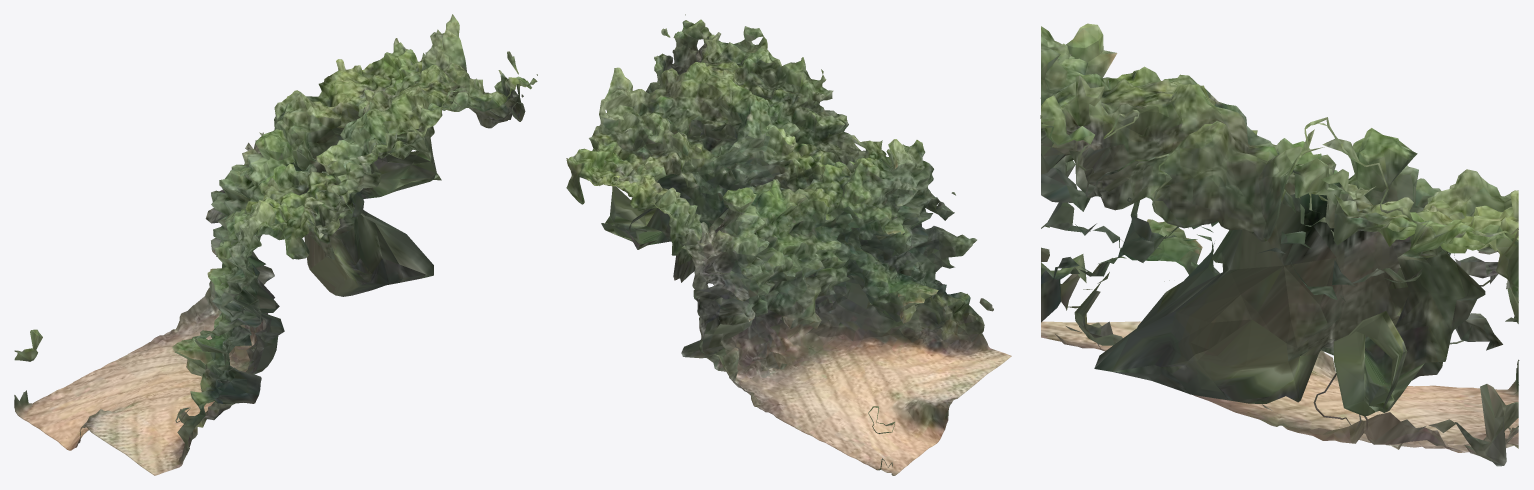
File: BlockBBYA_L19_10.glb
3 renders of one model, left to right at view 1: azimuth 30°, elevation 25°; view 2: azimuth 150°, elevation 25°; view 3: azimuth 270°, elevation 25°, orthographic. The views are drawn at different scales.
Parts seen in each view (by area): view 1: rtc; view 2: rtc; view 3: rtc.
Part boxes in pixels (left/top/right/bottom): rtc: left=14, top=14, right=537, bottom=475; rtc: left=566, top=14, right=1011, bottom=475; rtc: left=1040, top=23, right=1519, bottom=466.
Size of the model in its own units: 26.51 by 23.35 by 16.87.
Materials: 4 (4 with a texture image).
